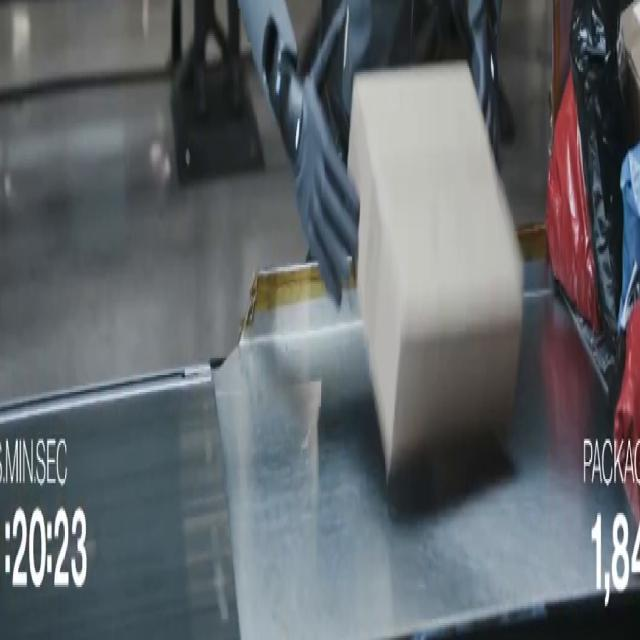package: (349, 62, 522, 478), (570, 0, 627, 351), (547, 77, 600, 334), (614, 304, 639, 523), (619, 145, 639, 330), (622, 0, 639, 146)
